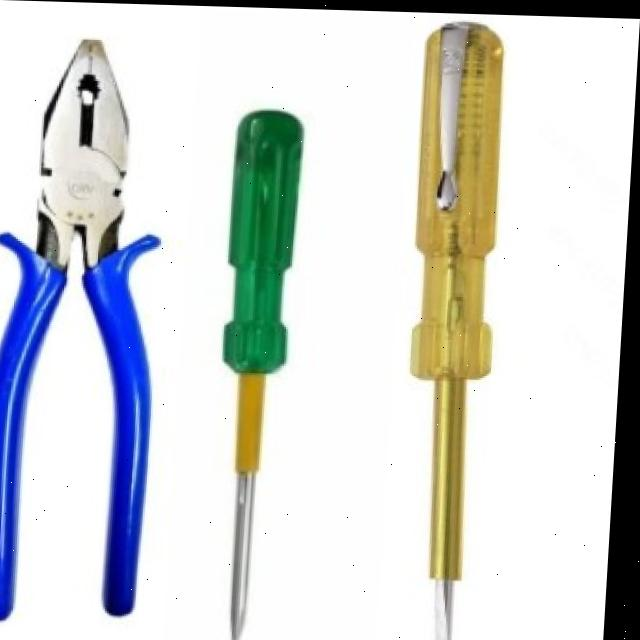Screwdriver: (416, 21, 504, 640), (228, 109, 305, 640)
